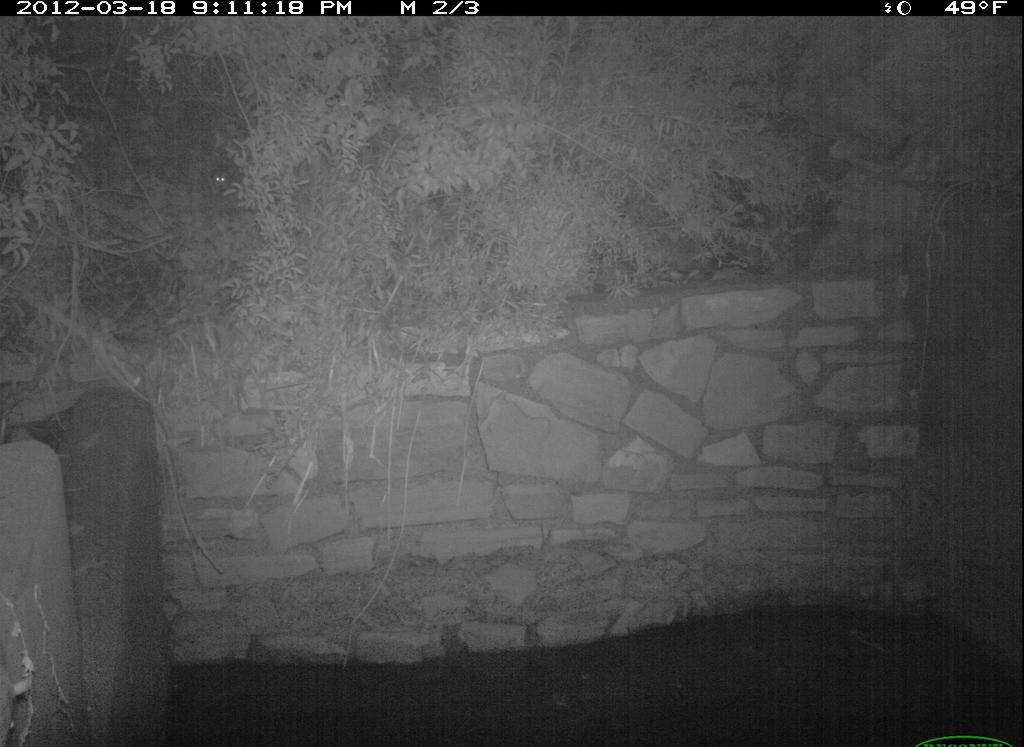rodent: (2, 659, 42, 747), (209, 162, 236, 194)
